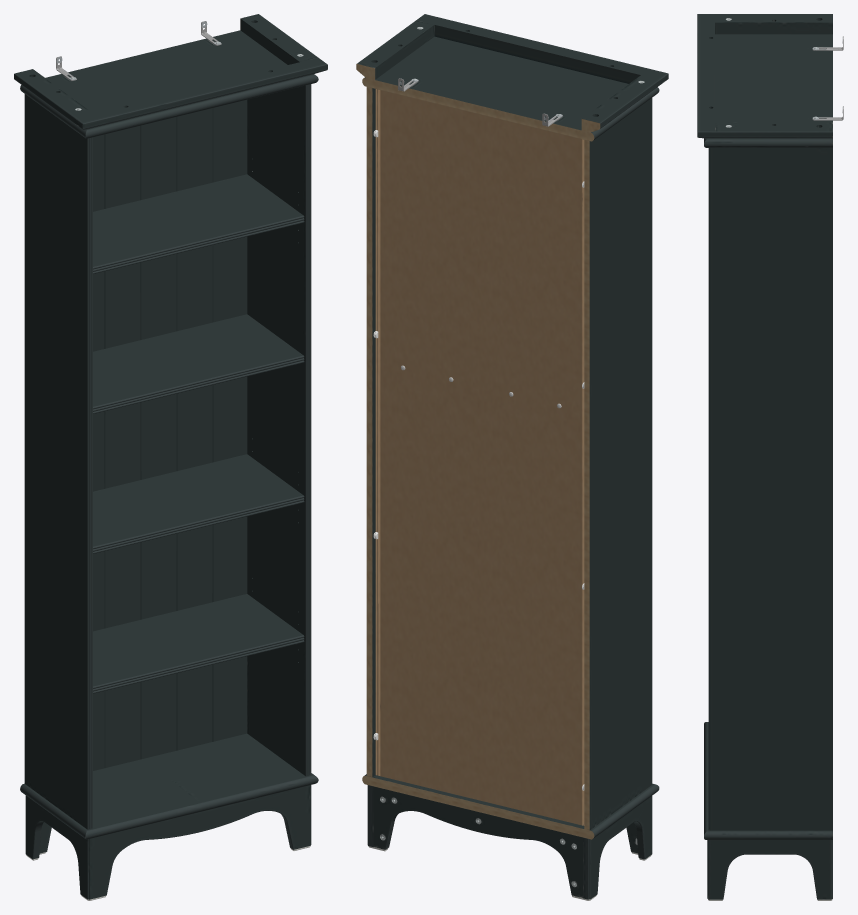
The picture shows the model from 3 angles, left to right: view 1: azimuth 30°, elevation 25°; view 2: azimuth 150°, elevation 25°; view 3: azimuth 270°, elevation 25°; orthographic projection.
Visible parts, largest first — view 1: world; view 2: world; view 3: world.
Part boxes in pixels (x1=…): world: x1=14, y1=14, x2=327, y2=900; world: x1=356, y1=14, x2=668, y2=900; world: x1=697, y1=14, x2=843, y2=900.
Bounding box in the file's own units: 0.65 × 1.99 × 0.34.
Materials: 1 (1 with a texture image).
